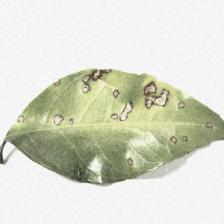canker: (3, 64, 218, 189)
